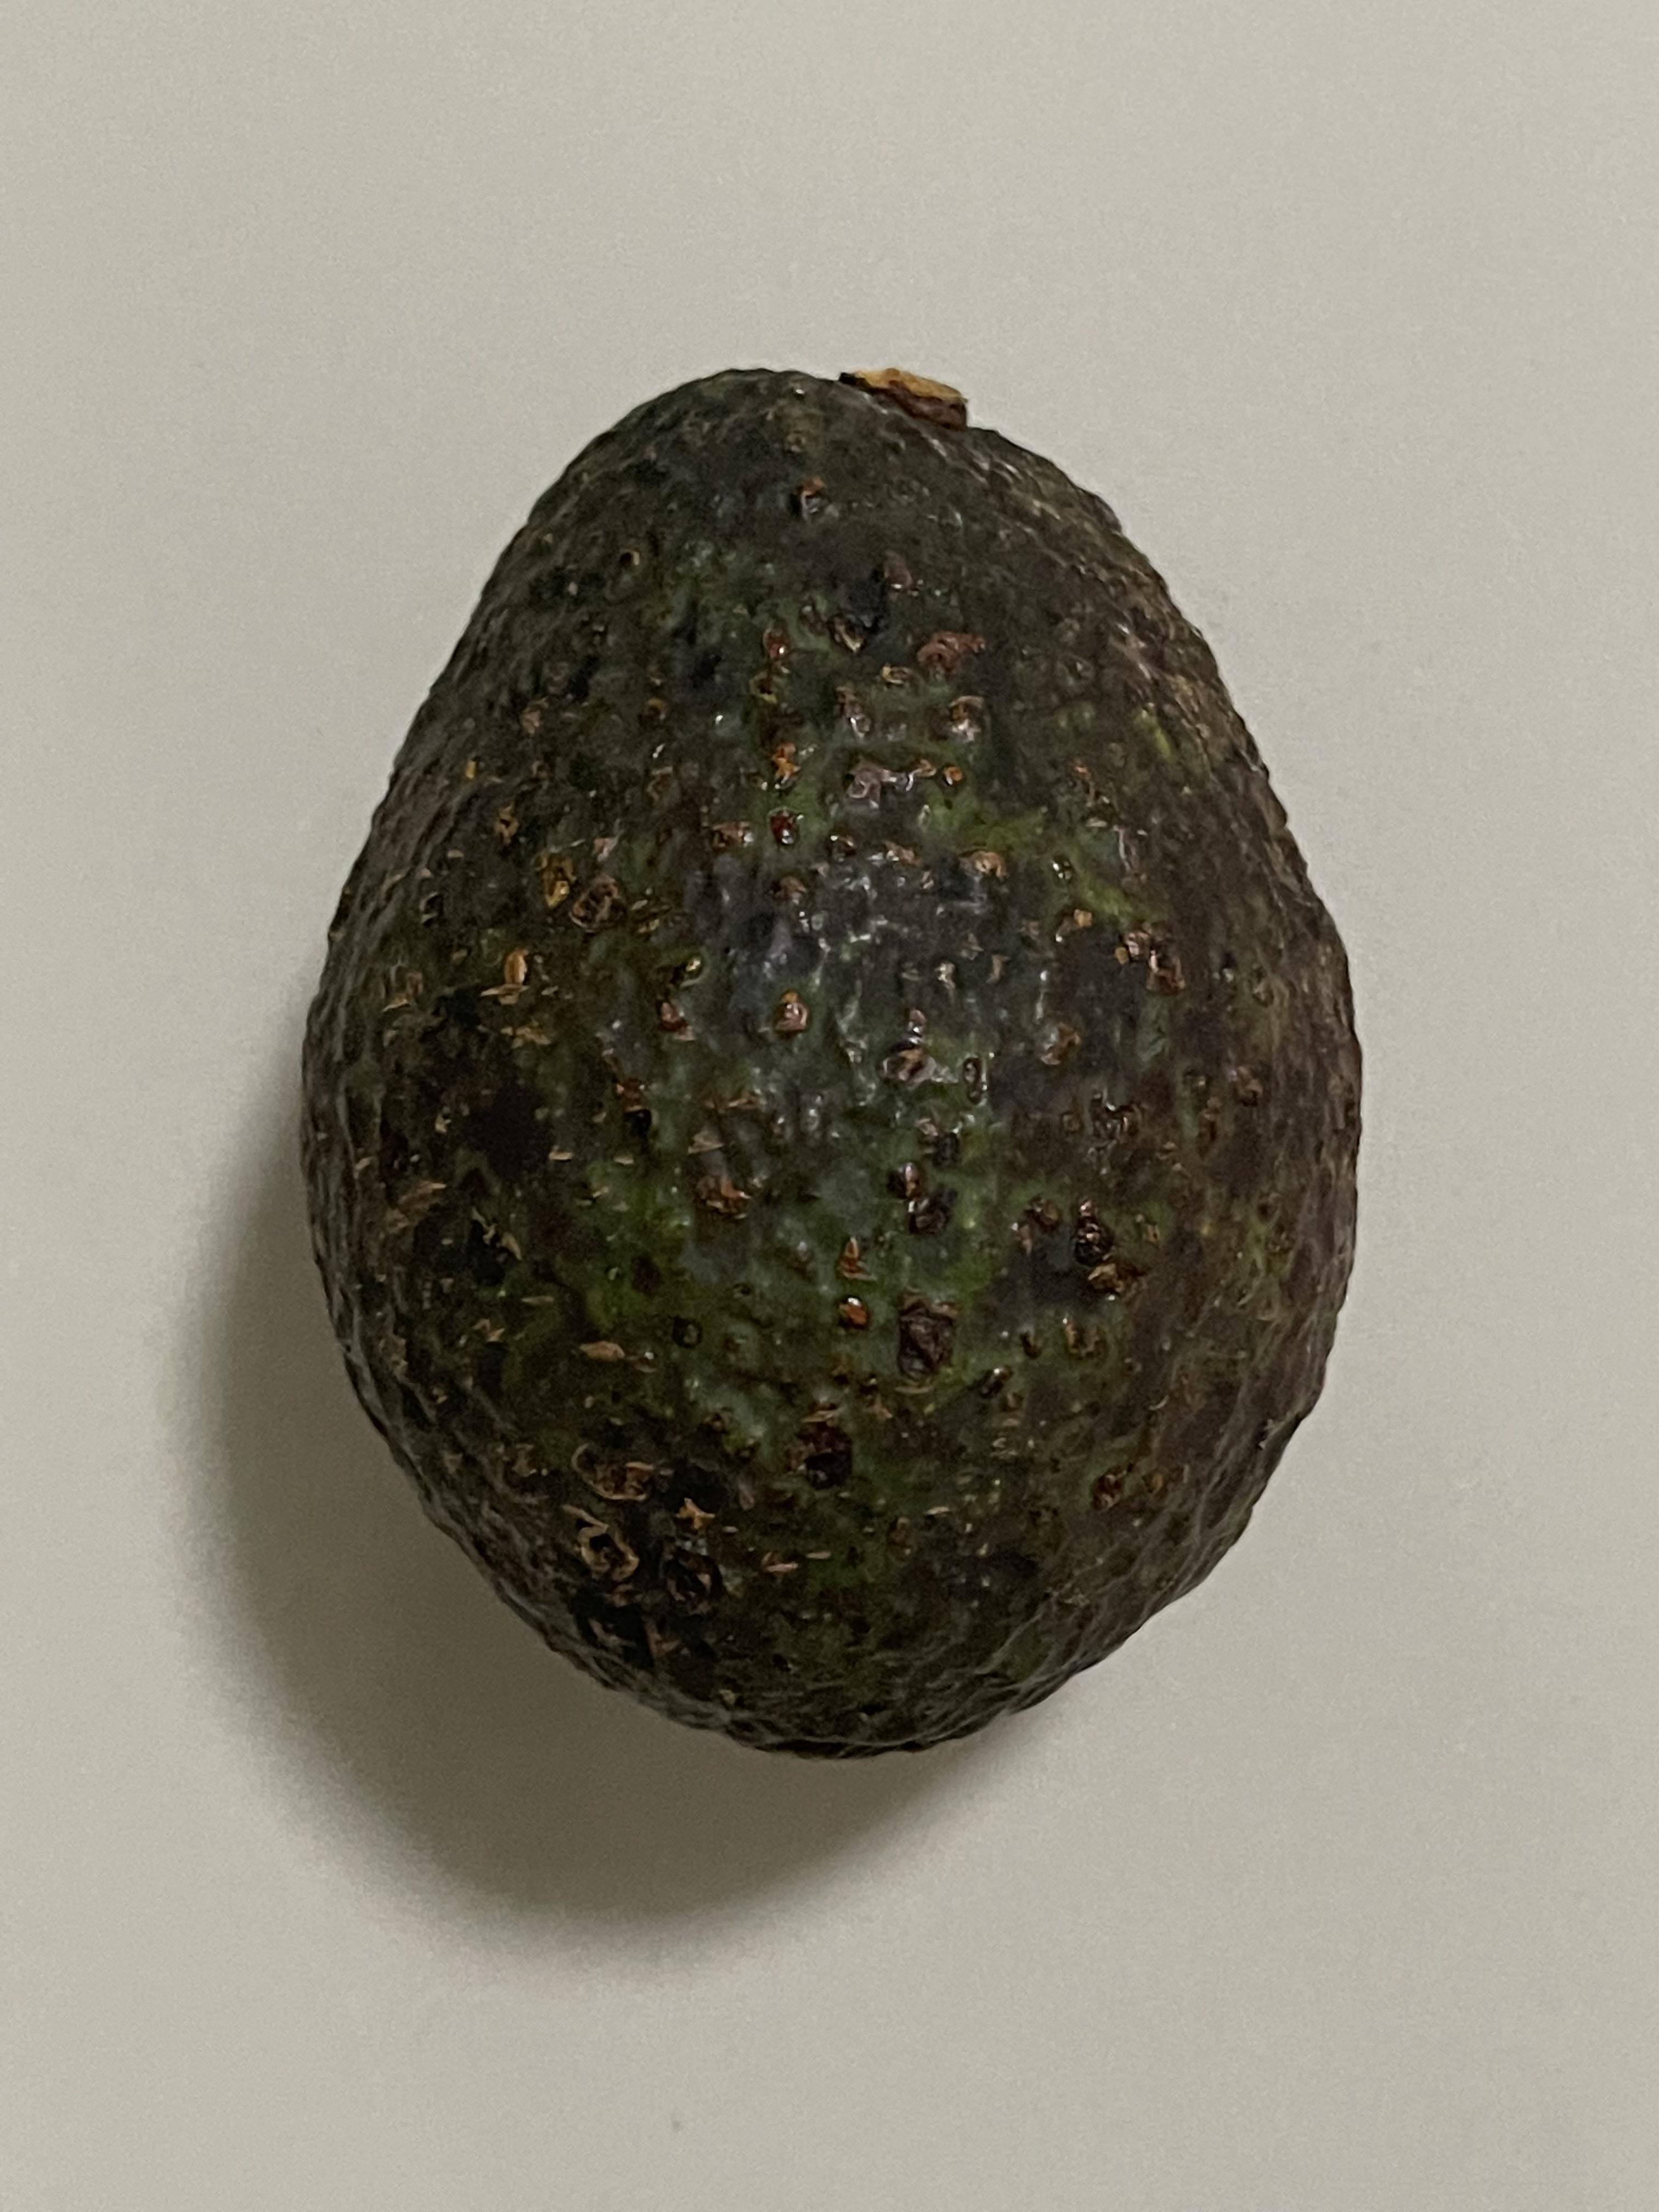Level1: (263, 307, 1403, 1806)
